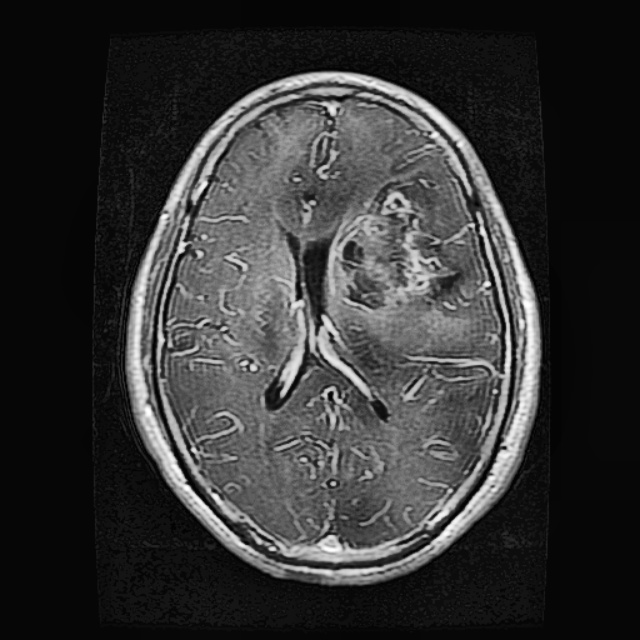Pituitary: (330, 182, 453, 315)
